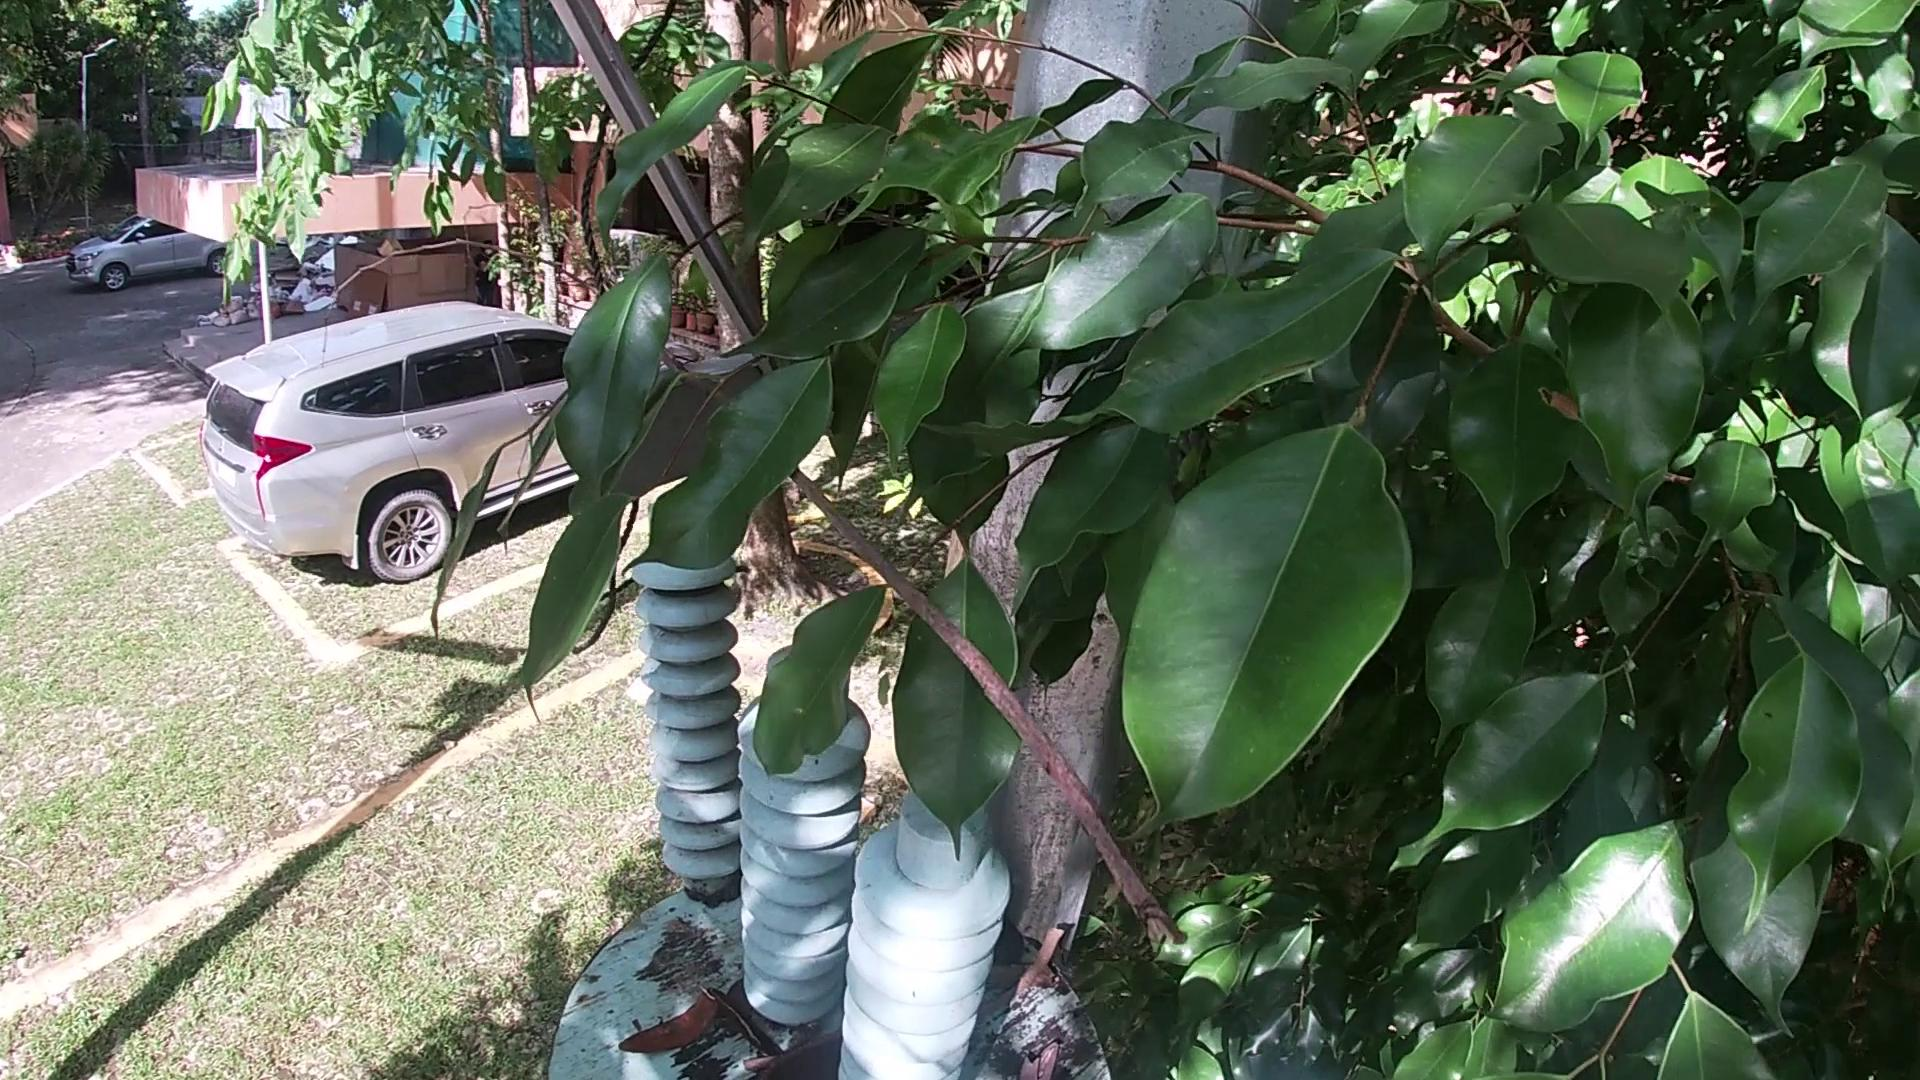leaf: (716, 975, 779, 1056)
mahogany fruit: (616, 994, 723, 1064), (746, 1036, 840, 1080)
tree branch: (650, 326, 1195, 959), (975, 923, 1069, 1015), (1011, 1033, 1079, 1080), (968, 968, 1072, 986)
